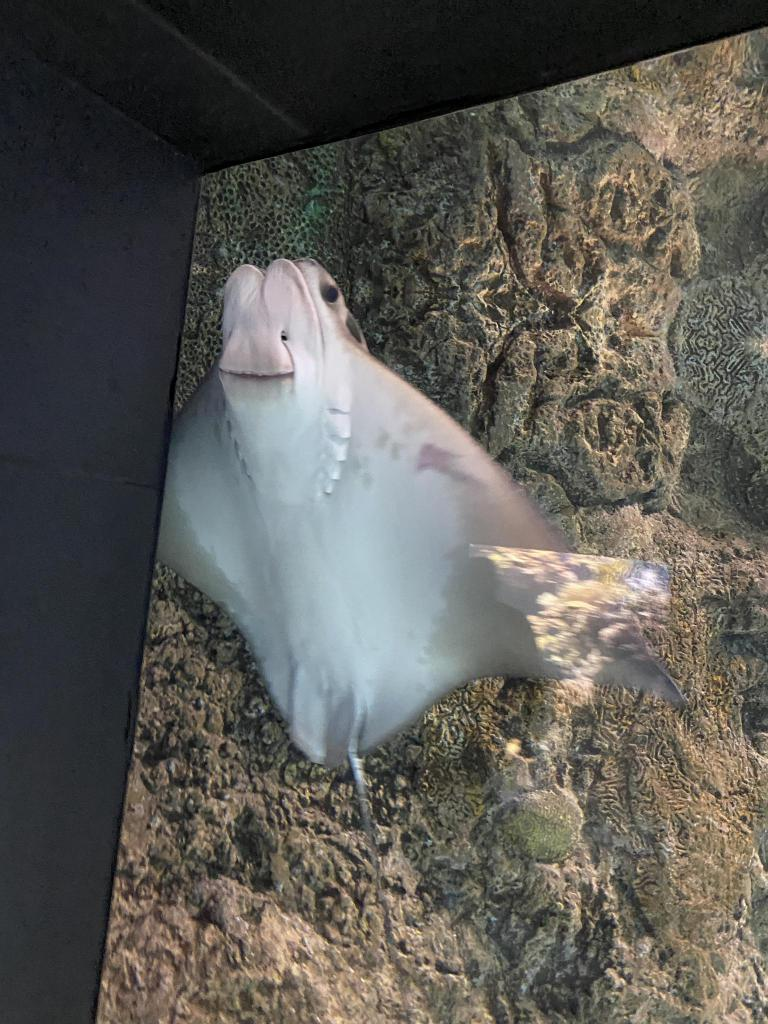stingray: (154, 252, 690, 764)
